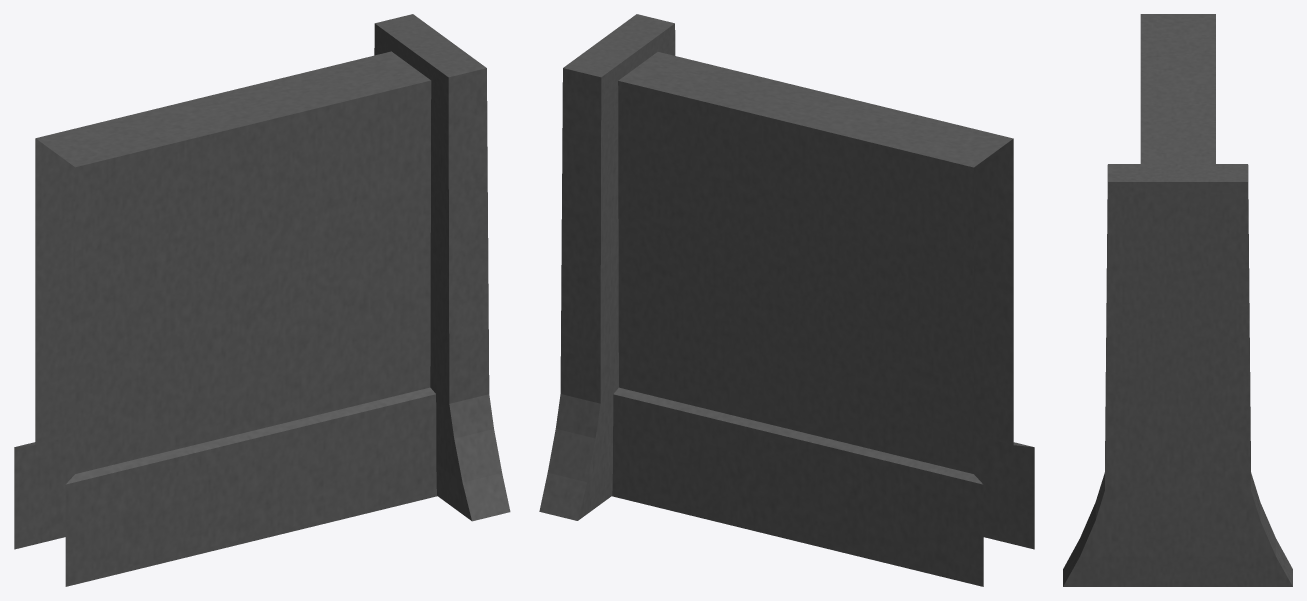
File: MuroCanto.fbx
The picture shows the model from 3 angles, left to right: view 1: azimuth 30°, elevation 25°; view 2: azimuth 150°, elevation 25°; view 3: azimuth 270°, elevation 25°; orthographic projection. The views are drawn at different scales.
Parts seen in each view (by area): view 1: muroMeioSimples; view 2: muroMeioSimples; view 3: muroMeioSimples.
Boxes of the visible parts, <box> form: muroMeioSimples: <box>14,14,510,586</box>; muroMeioSimples: <box>539,14,1034,586</box>; muroMeioSimples: <box>1063,14,1292,586</box>.
Bounding box in the file's own units: 4173 × 4152 × 2132.
